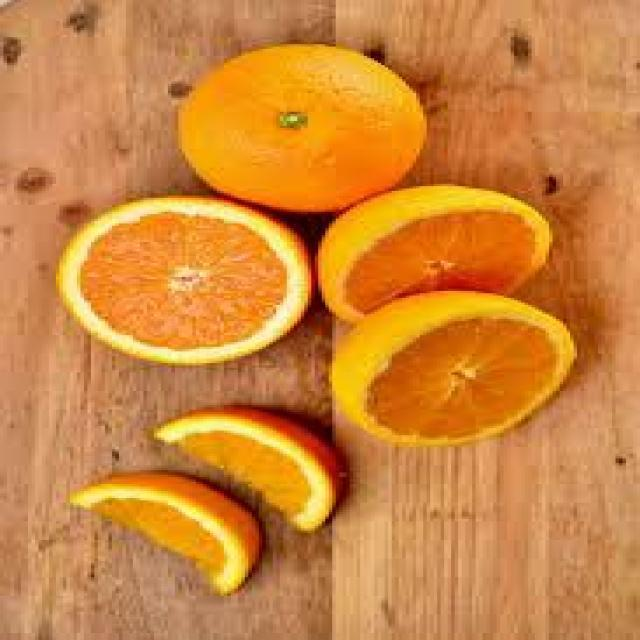Orange: (52, 194, 312, 366), (175, 42, 427, 212), (328, 288, 578, 447), (314, 182, 552, 322), (150, 402, 347, 534), (66, 470, 262, 596)
